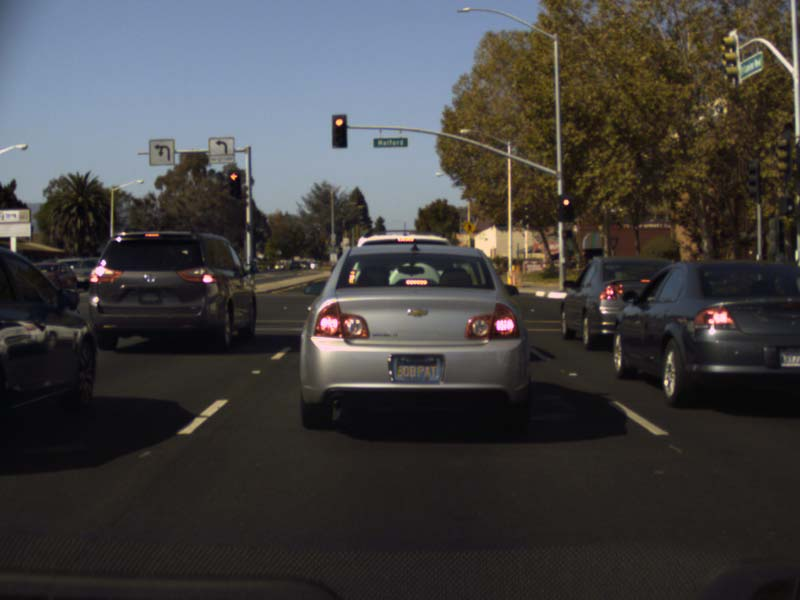Red: (331, 115, 347, 147), (226, 169, 241, 197)
Yellow: (557, 195, 573, 221)
